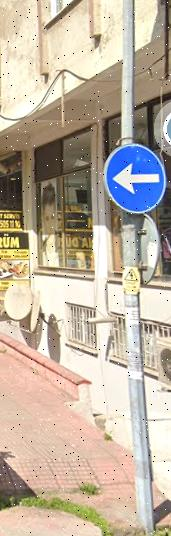turnleft: (101, 144, 167, 215)
